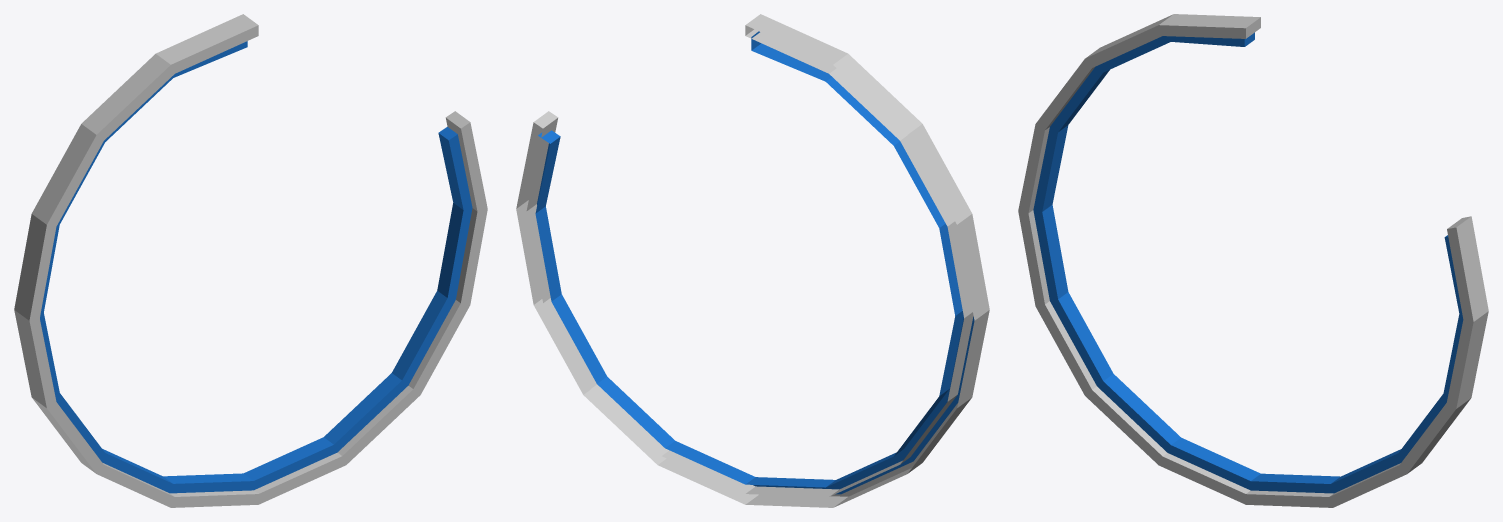
File: SM_decorative_lighting2.fbx
3 views of the same model, side by side, from view 1: azimuth 30°, elevation 25°; view 2: azimuth 150°, elevation 25°; view 3: azimuth 330°, elevation 25° (orthographic).
Visible parts, largest first — view 1: decorative_lighting2; view 2: decorative_lighting2; view 3: decorative_lighting2.
Part boxes in pixels (box(x1,y1,x2,y2)): decorative_lighting2: box(14, 14, 487, 507); decorative_lighting2: box(516, 14, 989, 507); decorative_lighting2: box(1018, 14, 1488, 507).
Size of the model in its own units: 200 by 200 by 11.56.
